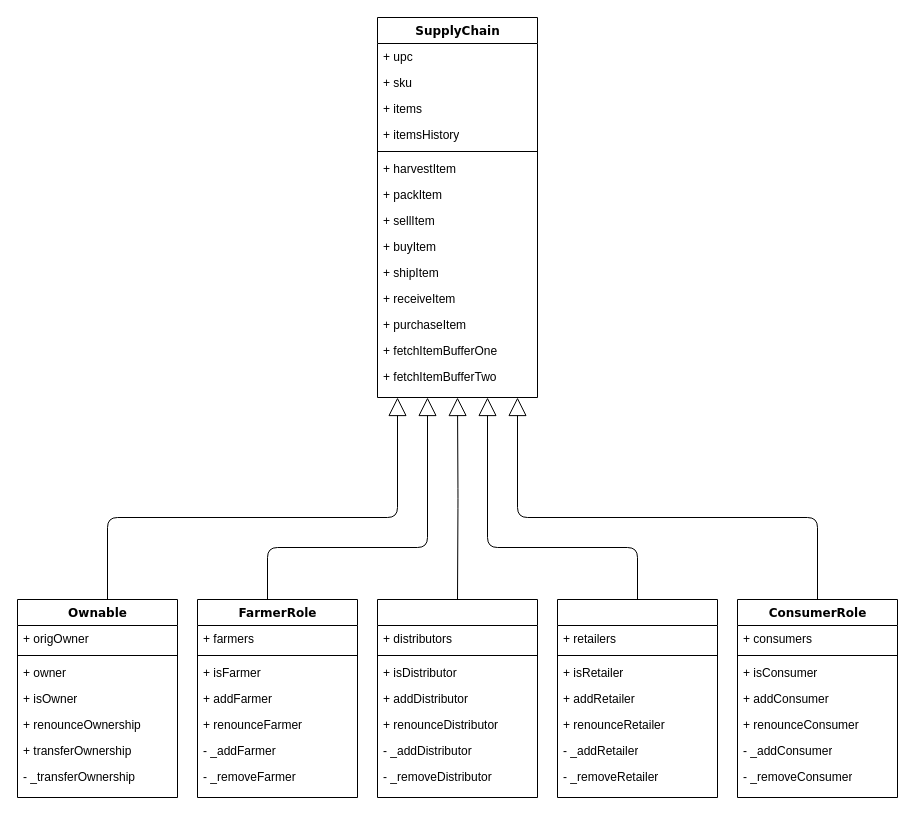
Image size: 915x815. Some labels were removed from this diagram. The shapes that lost their labels are listed below. From the top down, each one's box as (x1, y1, x2, y2) in pixels, then its label:
(376, 598, 538, 798): DistributorRole
(556, 598, 718, 798): RetailerRole
